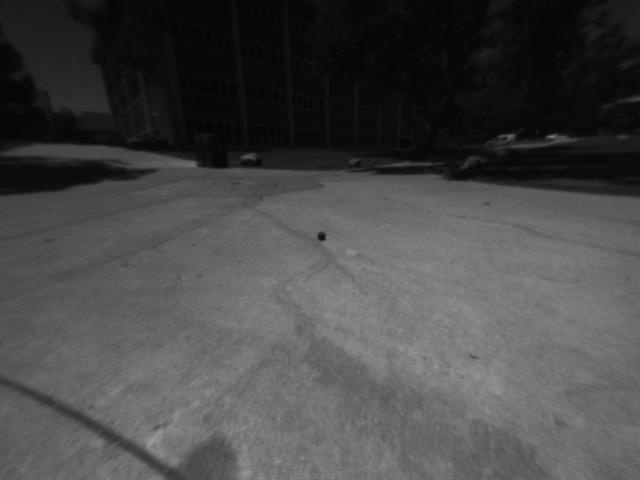dogtoy: (308, 222, 337, 247)
